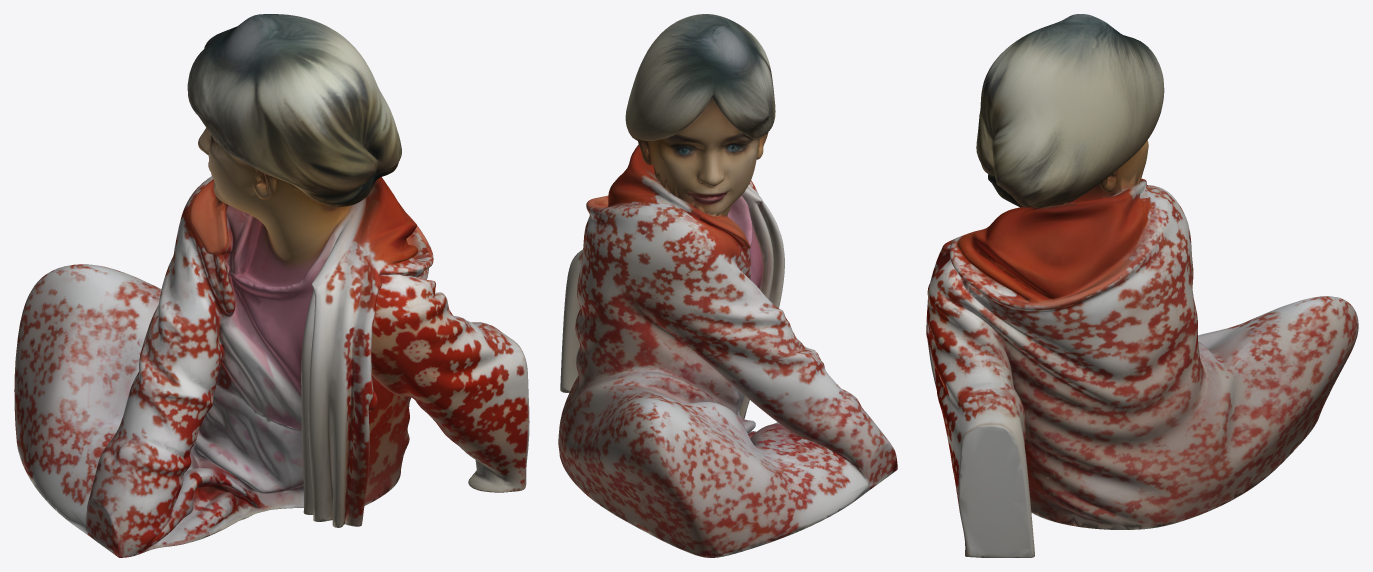
3 views of the same model, side by side, from view 1: azimuth 30°, elevation 25°; view 2: azimuth 150°, elevation 25°; view 3: azimuth 270°, elevation 25° (orthographic). The views are drawn at different scales.
Parts seen in each view (by area): view 1: material; view 2: material; view 3: material.
Part boxes in pixels (x1,y1,x2,y2): material: (14, 14, 529, 557); material: (558, 14, 897, 557); material: (926, 14, 1358, 557).
Bounding box in the file's own units: 0.6772 × 0.8145 × 0.709.
Materials: 1 (1 with a texture image).
